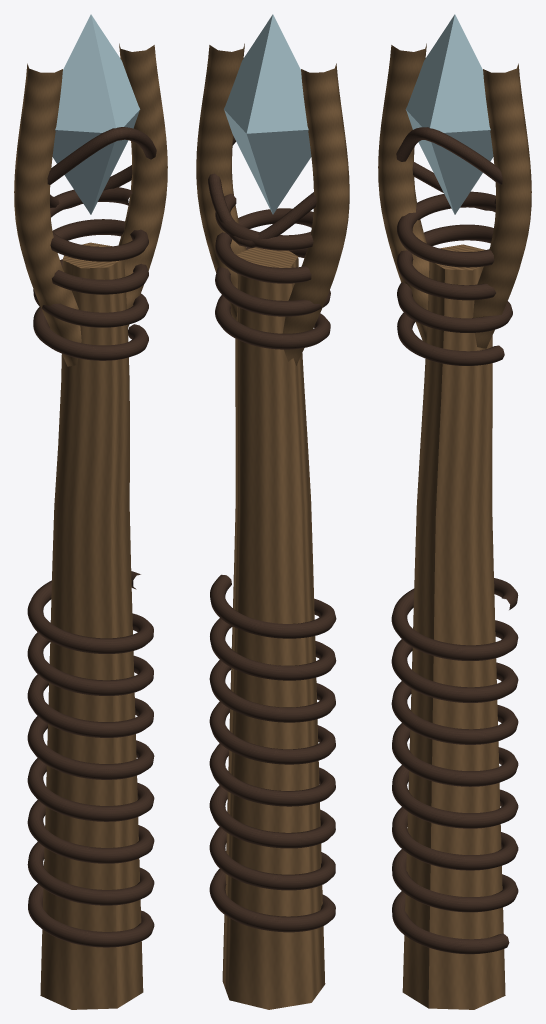
Rendered from corealm_wand_1.glb.
The picture shows the model from 3 angles, left to right: view 1: azimuth 30°, elevation 25°; view 2: azimuth 150°, elevation 25°; view 3: azimuth 330°, elevation 25°; orthographic projection.
Parts seen in each view (by area): view 1: corealm-weapon-wood, corealm-weapon-leather, corealm-weapon-gem; view 2: corealm-weapon-wood, corealm-weapon-leather, corealm-weapon-gem; view 3: corealm-weapon-wood, corealm-weapon-leather, corealm-weapon-gem.
Part boxes in pixels (box(x1,y1,x2,y2)): corealm-weapon-wood: box(14, 43, 167, 1009); corealm-weapon-leather: box(27, 127, 156, 947); corealm-weapon-gem: box(52, 14, 140, 214); corealm-weapon-wood: box(196, 43, 349, 1009); corealm-weapon-leather: box(208, 136, 336, 932); corealm-weapon-gem: box(224, 14, 311, 214); corealm-weapon-wood: box(378, 43, 531, 1009); corealm-weapon-leather: box(391, 127, 518, 954); corealm-weapon-gem: box(405, 14, 493, 214).
Bounding box in the file's own units: 0.0655 × 0.407 × 0.0479.
Materials: 3 (2 with a texture image).
